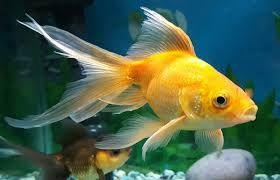Gold Fish: (5, 7, 258, 165)
